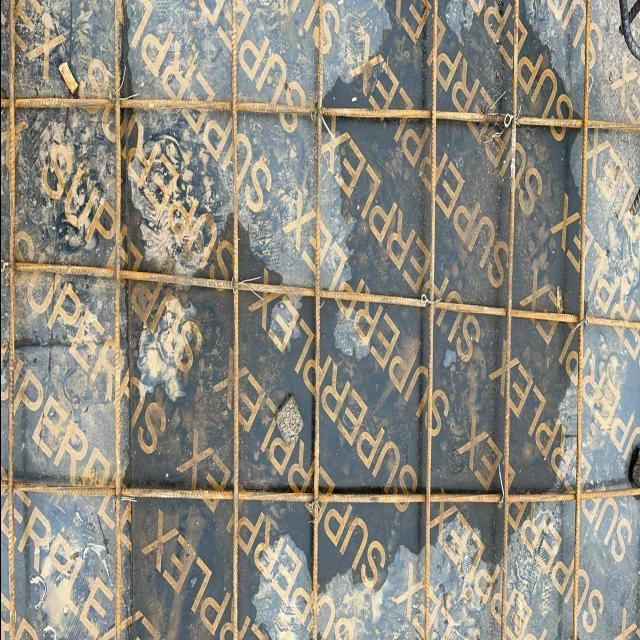ribbed bar: (1, 256, 640, 331), (1, 93, 640, 130), (1, 477, 640, 508), (499, 0, 519, 639), (572, 0, 591, 639), (422, 0, 438, 639), (310, 0, 324, 639), (230, 0, 240, 639), (113, 0, 123, 639), (7, 0, 16, 639)
